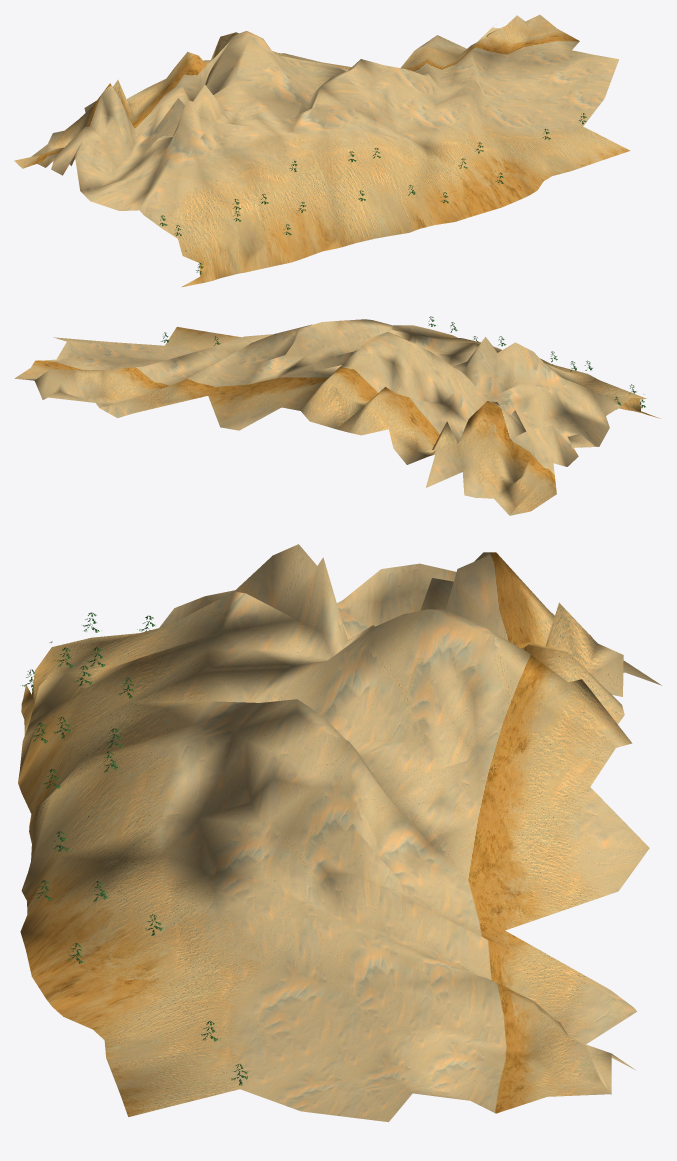
File: snow_island_13_b.fbx
The picture shows the model from 3 angles, top to bottom: view 1: azimuth 30°, elevation 25°; view 2: azimuth 150°, elevation 25°; view 3: azimuth 270°, elevation 25°; orthographic projection. The views are drawn at different scales.
Visible parts, largest first — view 1: snow_island_13_b; view 2: snow_island_13_b; view 3: snow_island_13_b.
Boxes of the visible parts, x1,y1,x2,y2 form: snow_island_13_b: (14,14,630,287); snow_island_13_b: (14,316,660,515); snow_island_13_b: (18,544,661,1122).
Bounding box in the file's own units: 2.64 × 0.588 × 1.42.
